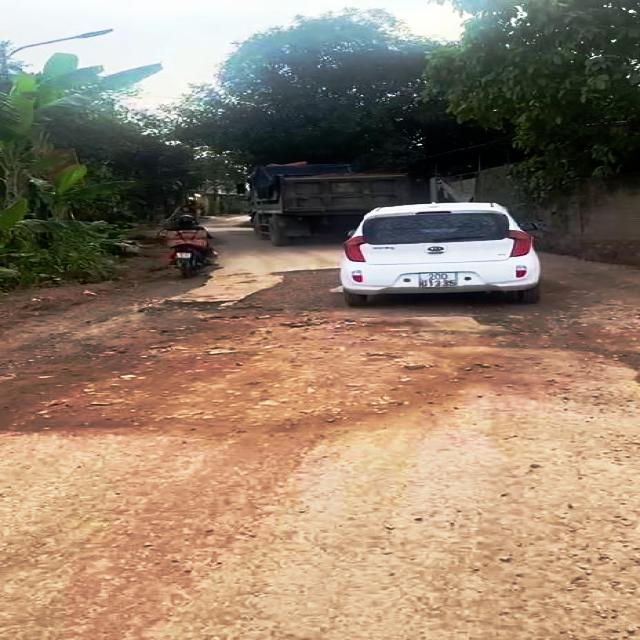pothole: (121, 269, 640, 375)
